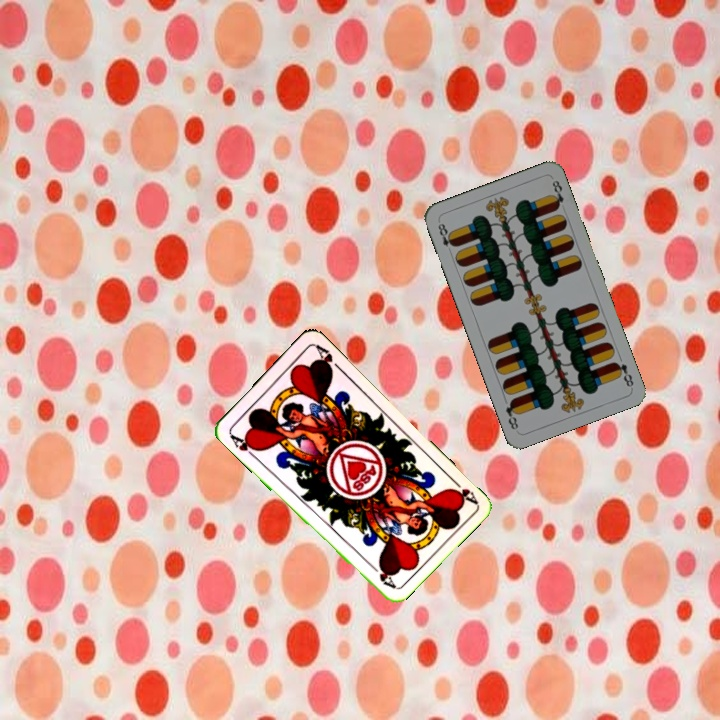E8: (434, 217, 458, 257), (610, 358, 636, 390)
HA: (226, 429, 262, 461), (446, 473, 479, 506)
